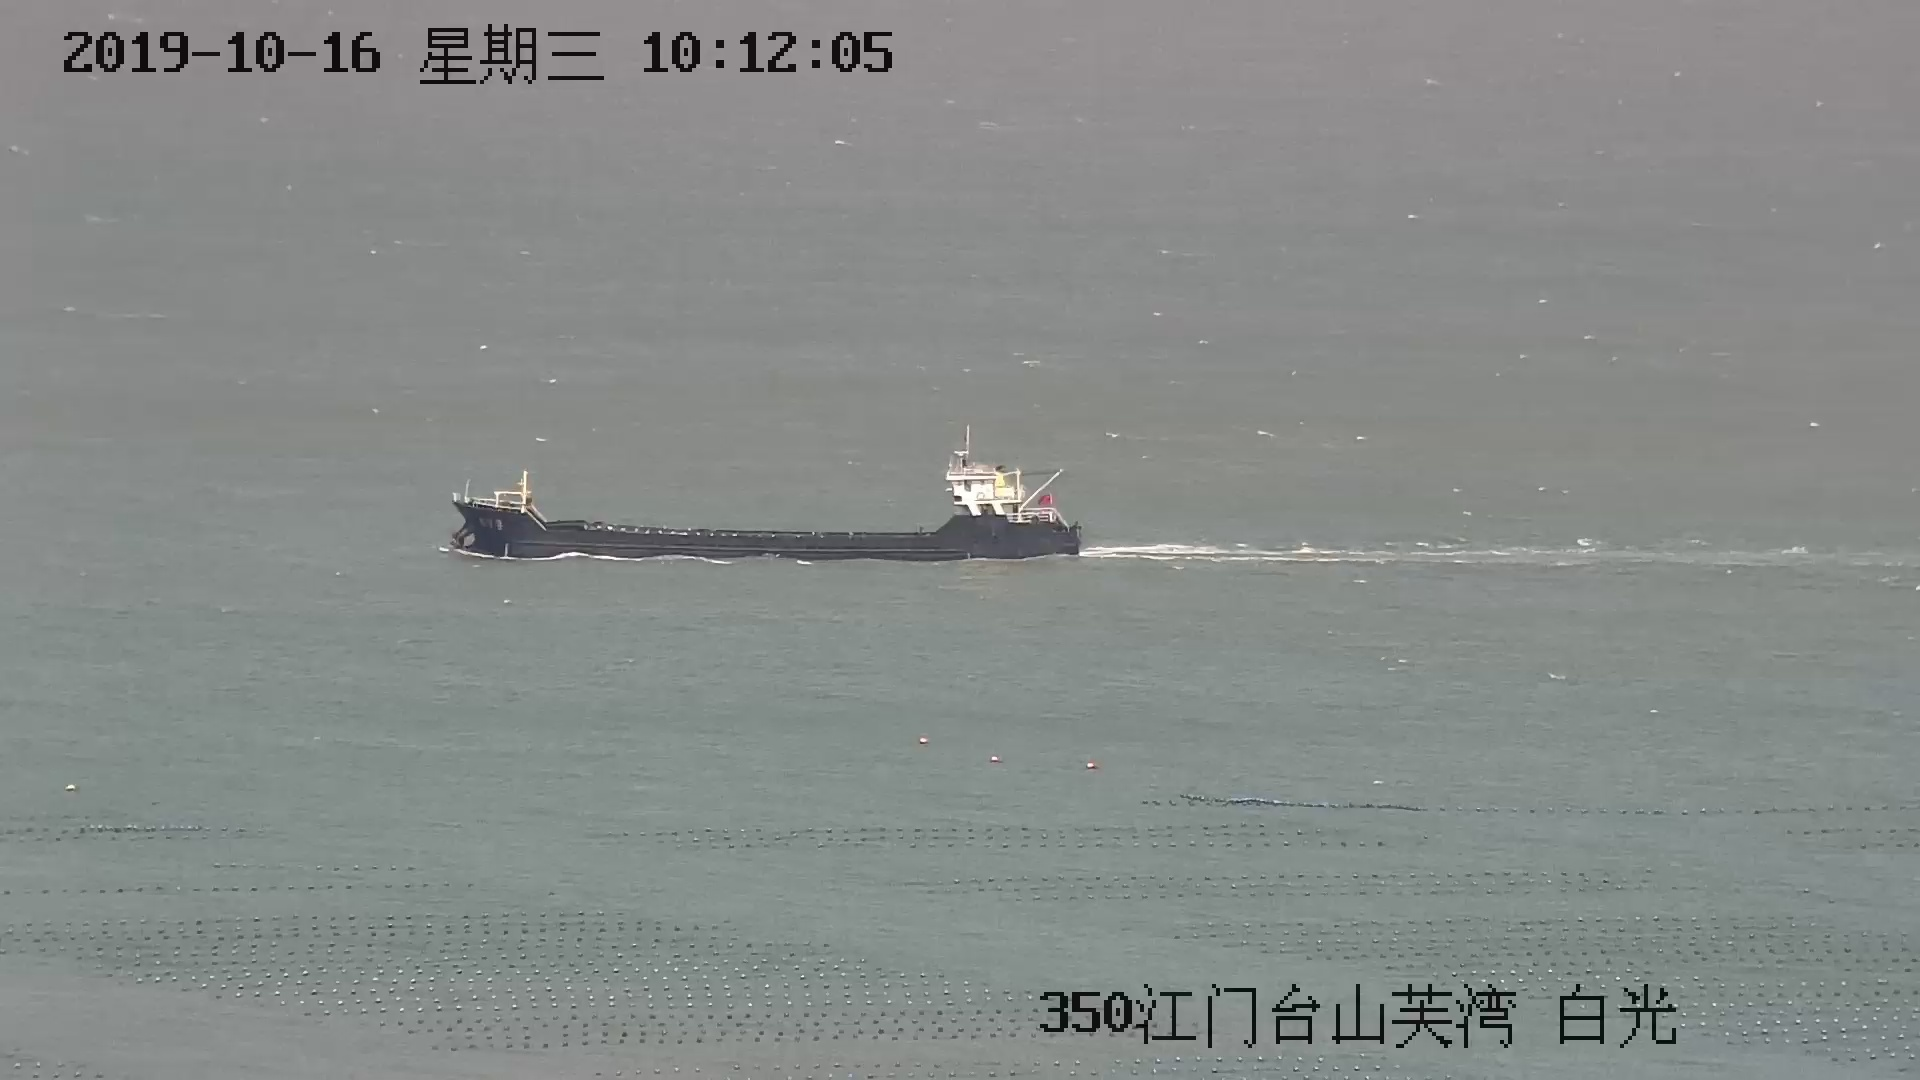ship: (444, 427, 1079, 574)
